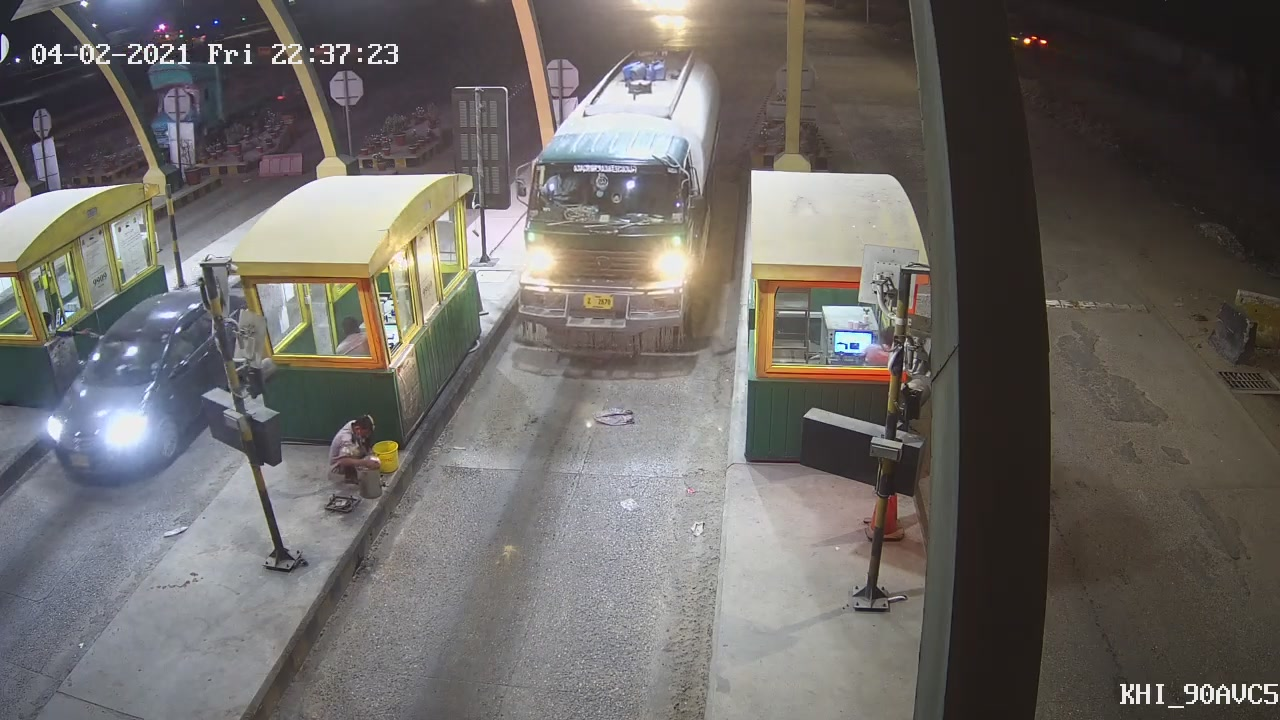F6: (512, 45, 730, 361)
